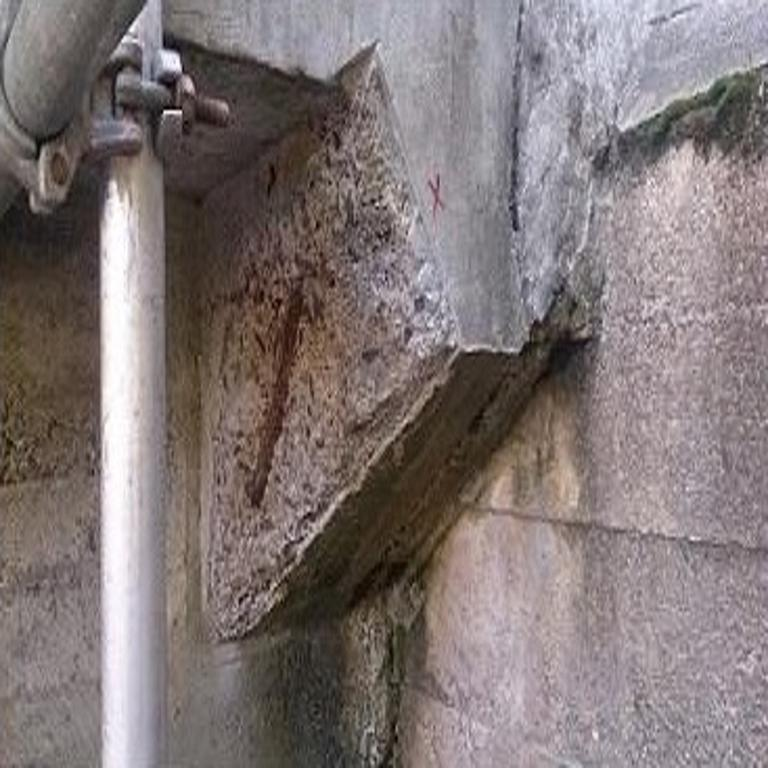damage: (194, 44, 462, 640)
